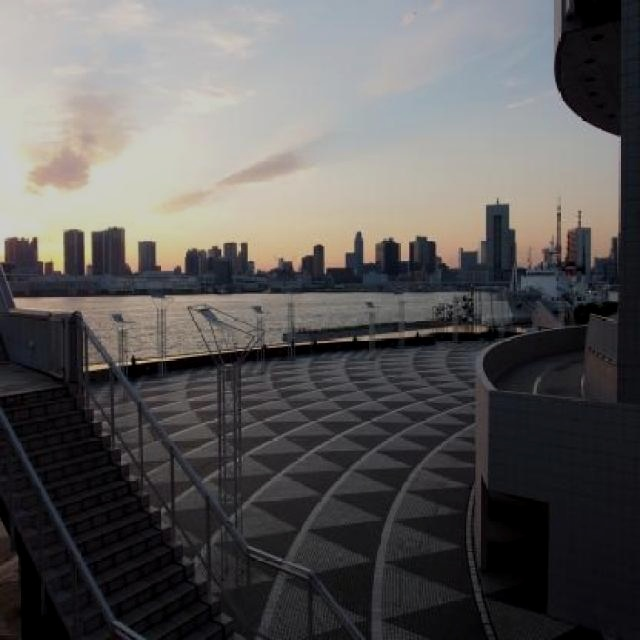stair: (0, 378, 245, 638)
